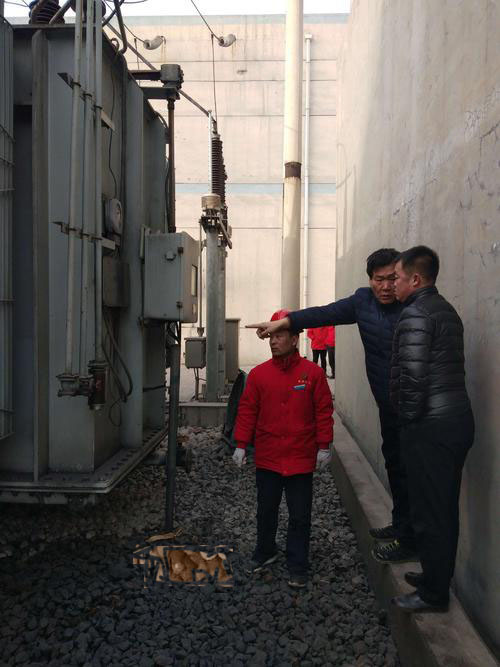oil: (123, 534, 239, 593)
